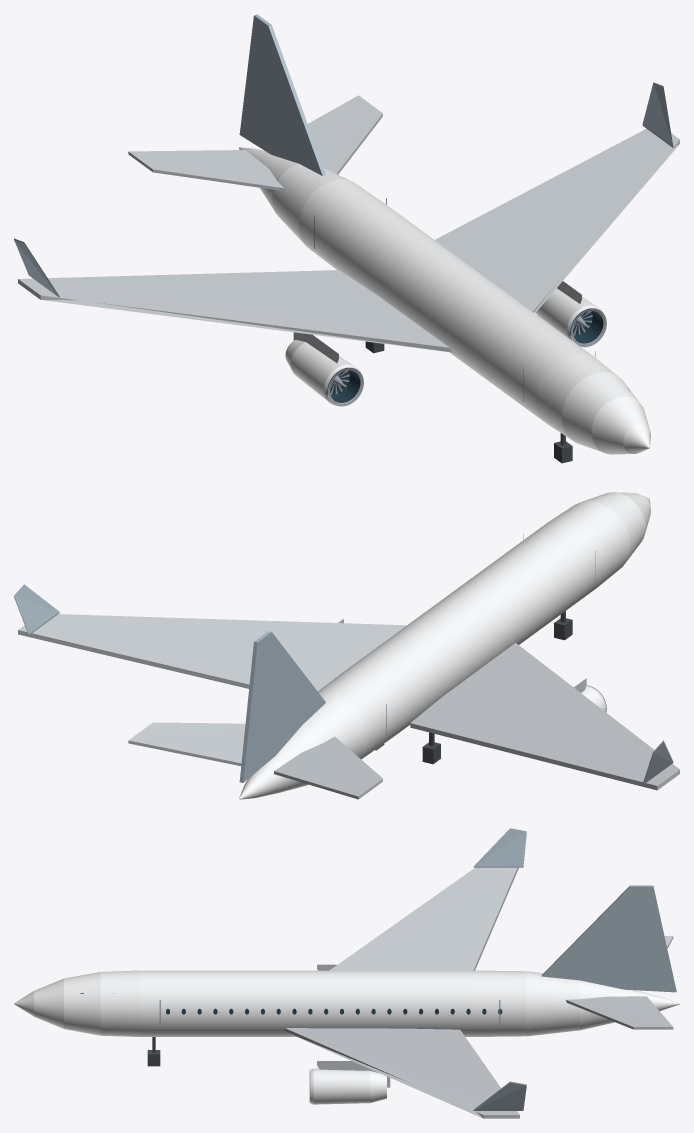
Rendered from generic-neutral-v3.gltf.
3 renders of one model, top to bottom at view 1: azimuth 30°, elevation 25°; view 2: azimuth 150°, elevation 25°; view 3: azimuth 270°, elevation 25°, orthographic. The views are drawn at different scales.
Visible parts, largest first — view 1: object 1; view 2: object 1, Gear; view 3: object 1.
Part boxes in pixels (x1,y1,x2,y2): object 1: [14, 14, 679, 454]; object 1: [14, 492, 679, 799]; Gear: [375, 611, 572, 764]; object 1: [14, 828, 679, 1118].
Size of the model in its own units: 36 by 11.8 by 40.
